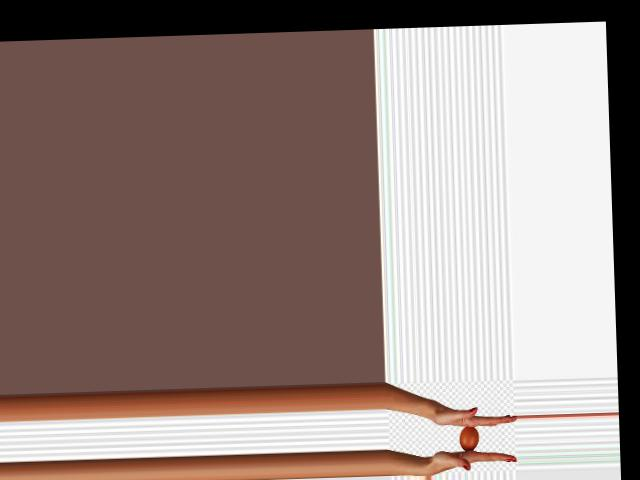egg: (458, 425, 478, 450)
